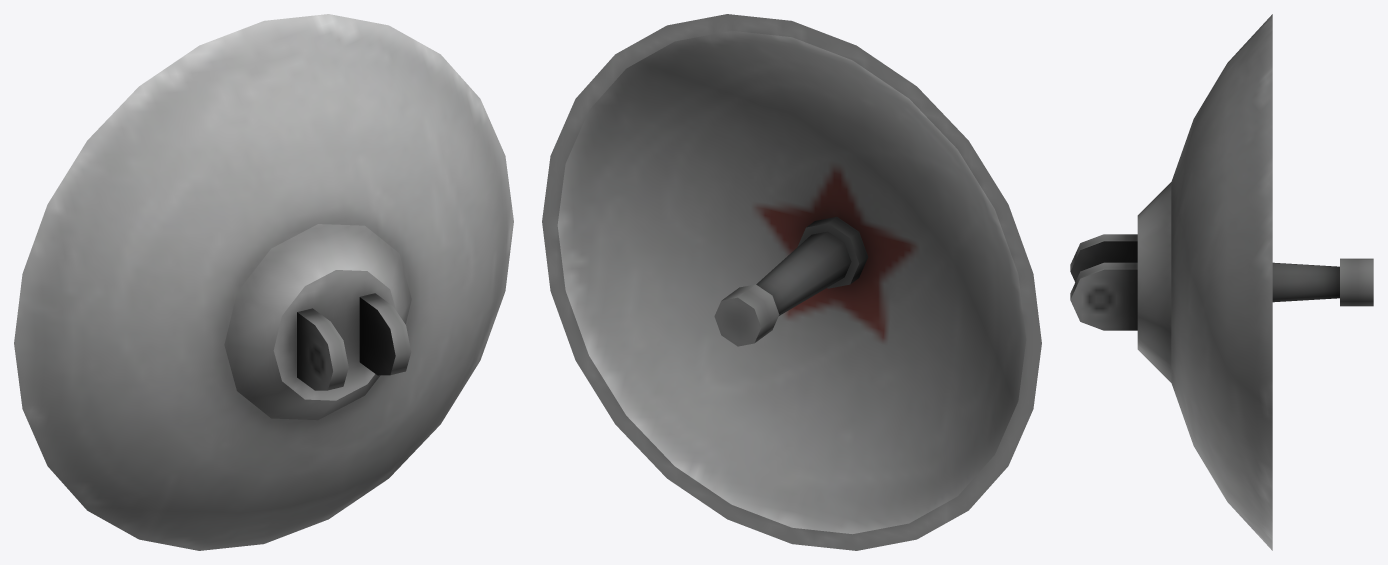
The model's file is lepus_dish_antenna_srf_1.obj.
The picture shows the model from 3 angles, left to right: view 1: azimuth 30°, elevation 25°; view 2: azimuth 150°, elevation 25°; view 3: azimuth 270°, elevation 25°; orthographic projection. The views are drawn at different scales.
Visible parts, largest first — view 1: lepus_dish_antenna_srf_1; view 2: lepus_dish_antenna_srf_1; view 3: lepus_dish_antenna_srf_1.
Part boxes in pixels (left/top/right/bottom): lepus_dish_antenna_srf_1: left=14, top=14, right=513, bottom=550; lepus_dish_antenna_srf_1: left=542, top=14, right=1041, bottom=550; lepus_dish_antenna_srf_1: left=1070, top=14, right=1373, bottom=550.
Bounding box in the file's own units: 0.4 × 0.4 × 0.225.
